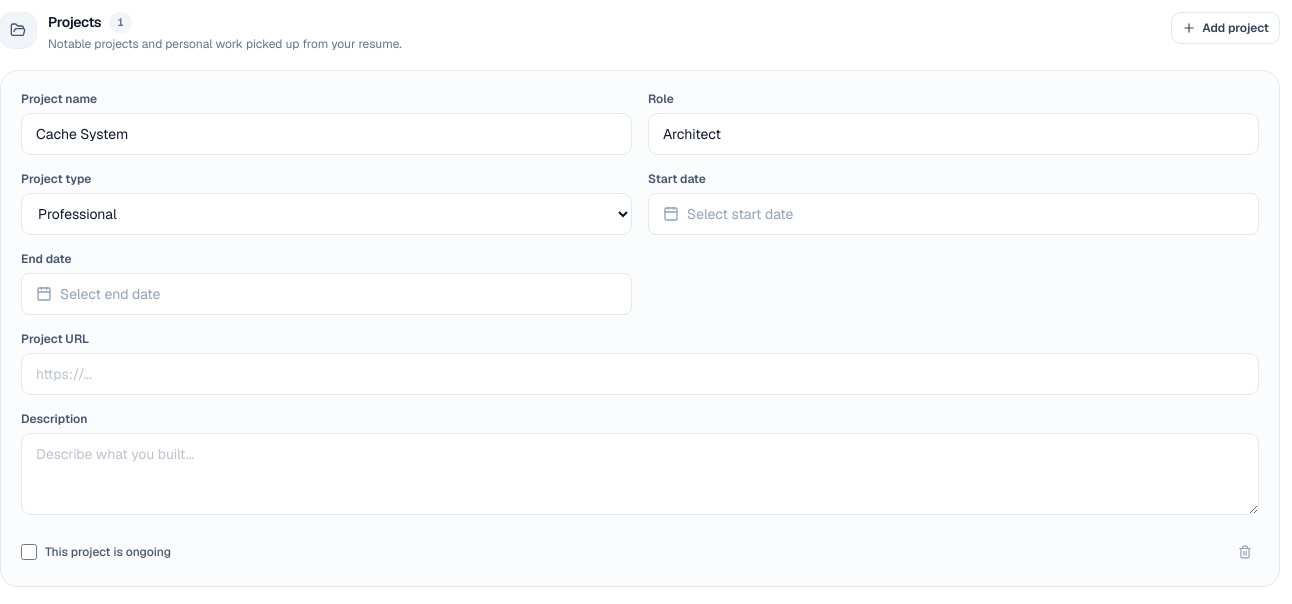
Test case: ProjectsSection › removes an entry through an accessible name
Click the button named "Remove Cache System (Architect)".
click(1245, 552)  # box [1231,538,1259,566]
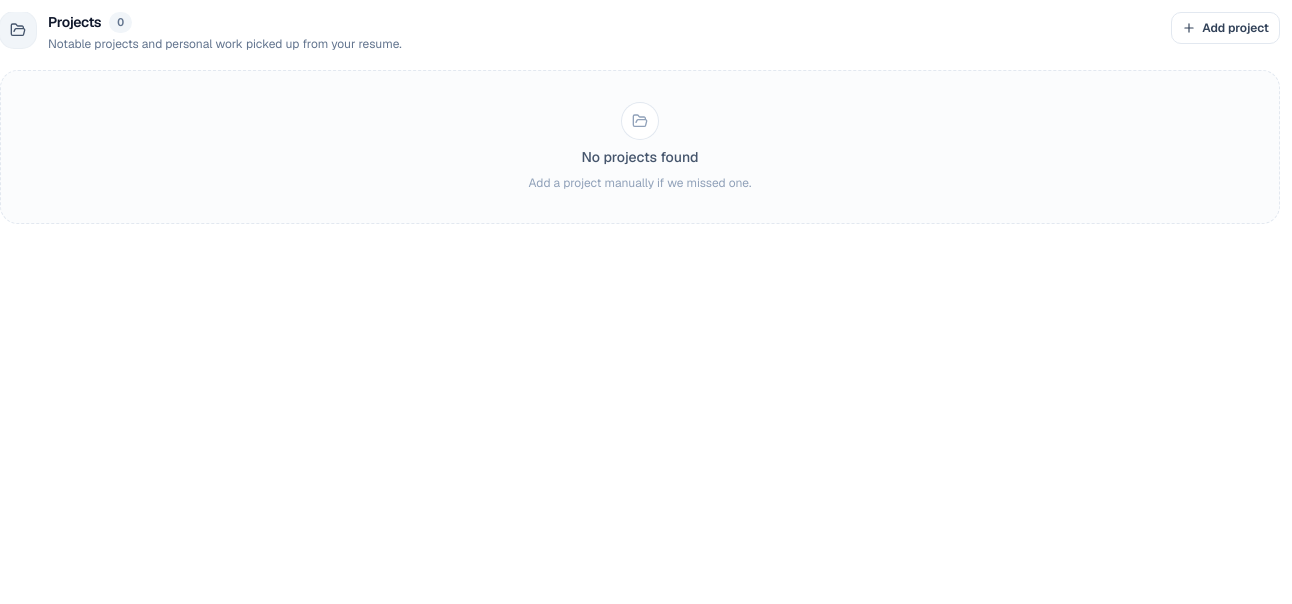
Expected: the text "No projects found" is shown, [582,147,698,167]
